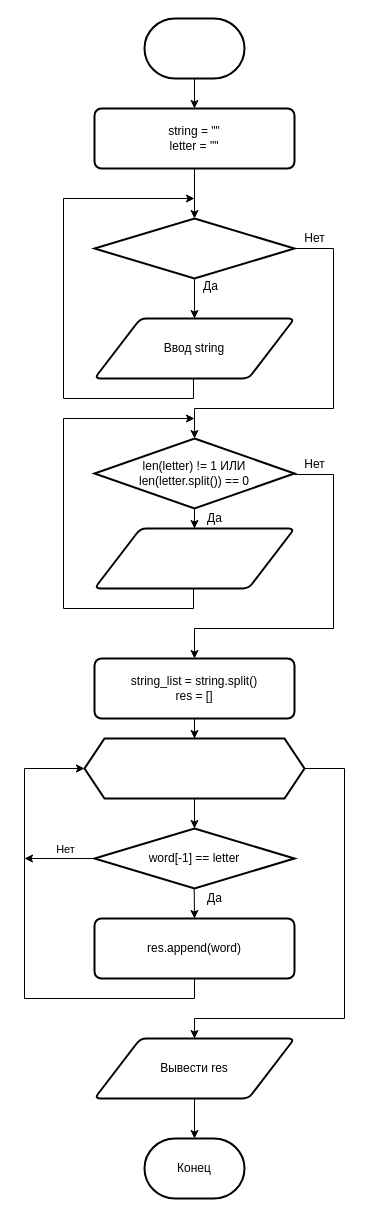
The diagram is 370 pixels wide and 1216 high, and some of its shapes have lost their labels. Each missing label, with the centre of its shape:
for word in string_list: pixel 194 768
len(string.split()) == 0: pixel 194 248
Ввод letter: pixel 194 558
Начало: pixel 194 48
